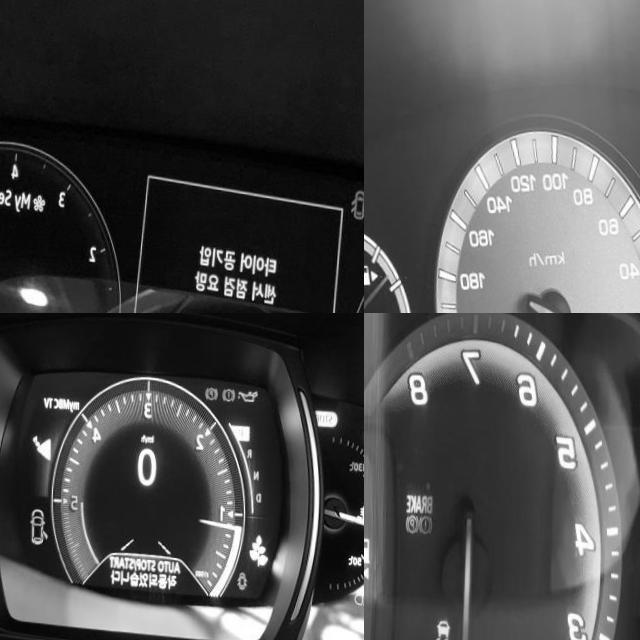Doors: (351, 180, 364, 212), (240, 564, 250, 582)
Low beam: (356, 583, 364, 599)
